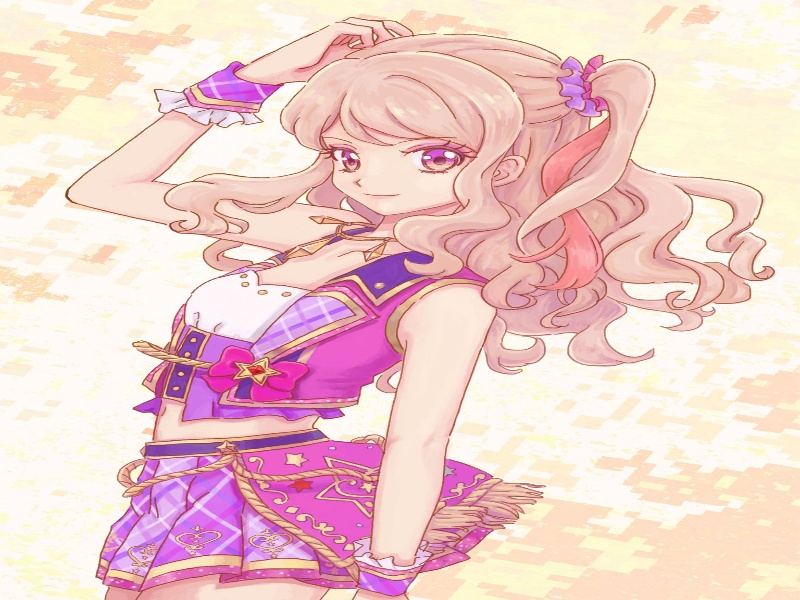person: (299, 94, 492, 229)
